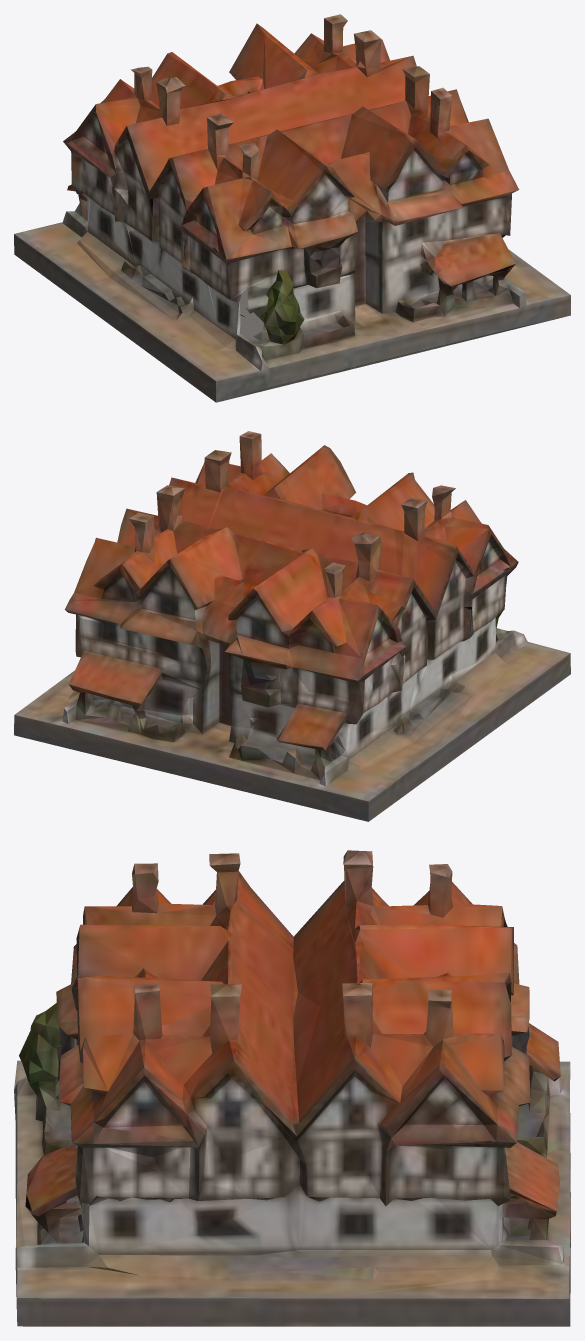
File: village_block_a_lod1.glb
The picture shows the model from 3 angles, top to bottom: view 1: azimuth 30°, elevation 25°; view 2: azimuth 150°, elevation 25°; view 3: azimuth 270°, elevation 25°; orthographic projection. The views are drawn at different scales.
Parts seen in each view (by area): view 1: village_block_a_lod1; view 2: village_block_a_lod1; view 3: village_block_a_lod1.
Part boxes in pixels (x1,y1,x2,y2): village_block_a_lod1: [14, 14, 570, 402]; village_block_a_lod1: [14, 431, 570, 821]; village_block_a_lod1: [14, 850, 570, 1326].
Bounding box in the file's own units: 20.09 × 11.54 × 19.93.
1 material, 1 textured.
